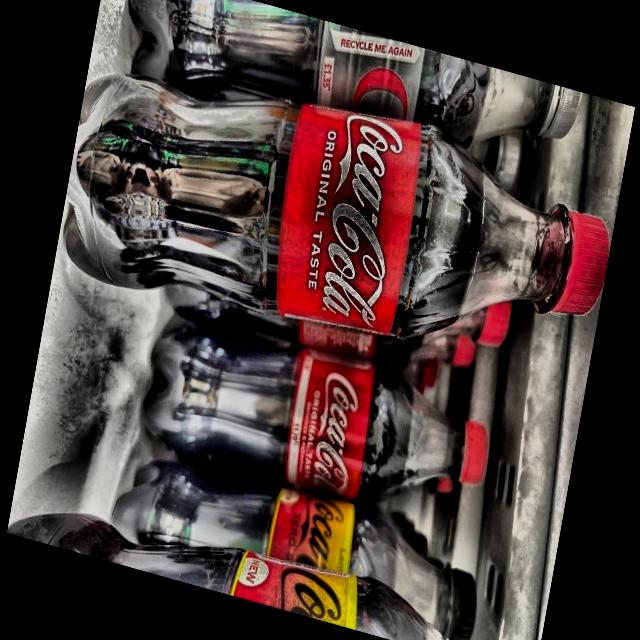Unknown: (130, 23, 578, 132)
coke-bottle: (48, 90, 606, 327), (162, 330, 492, 494), (168, 296, 512, 348)
